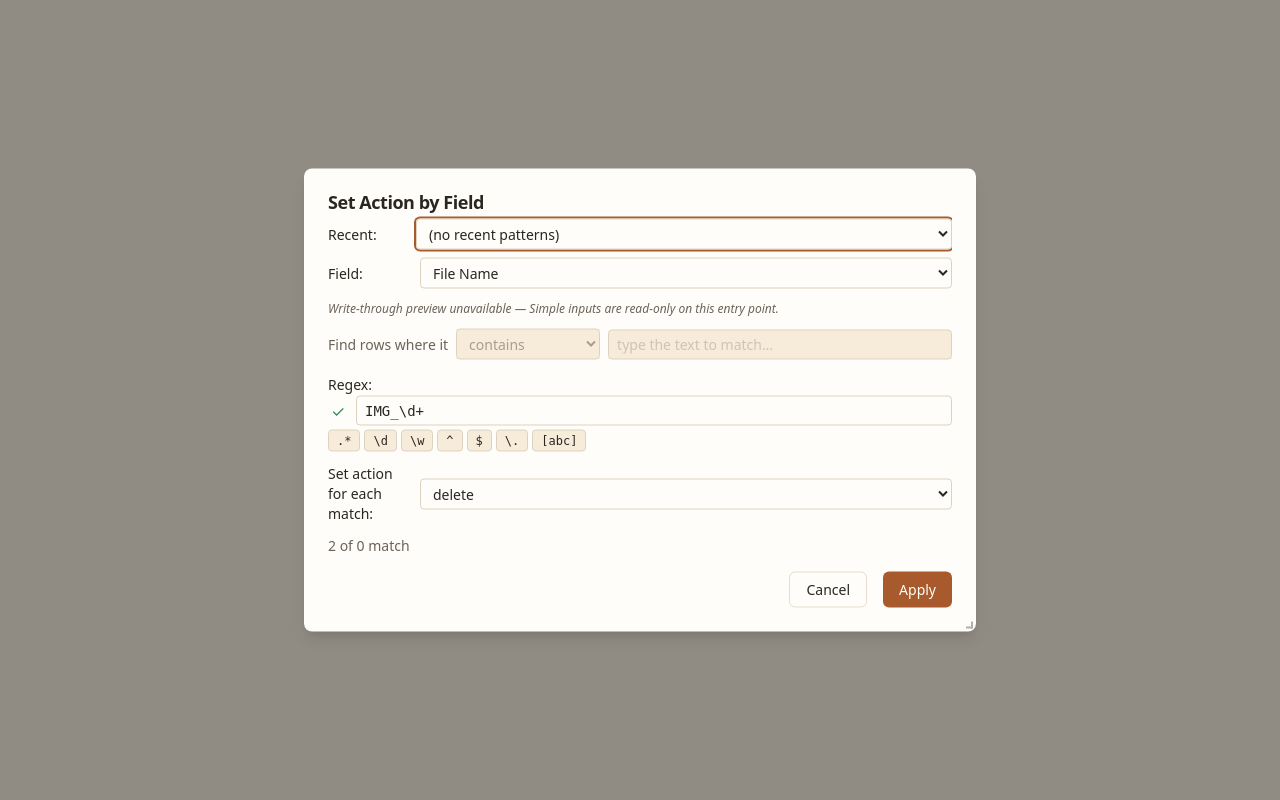
Test case: ActionDialog › delete-confirm falls back to the raw regex for a complex pattern
The width and height of the screenshot is (1280, 800).
Click the button with test id "action-btn-apply". click: (918, 590)
box: [883,572,952,608]
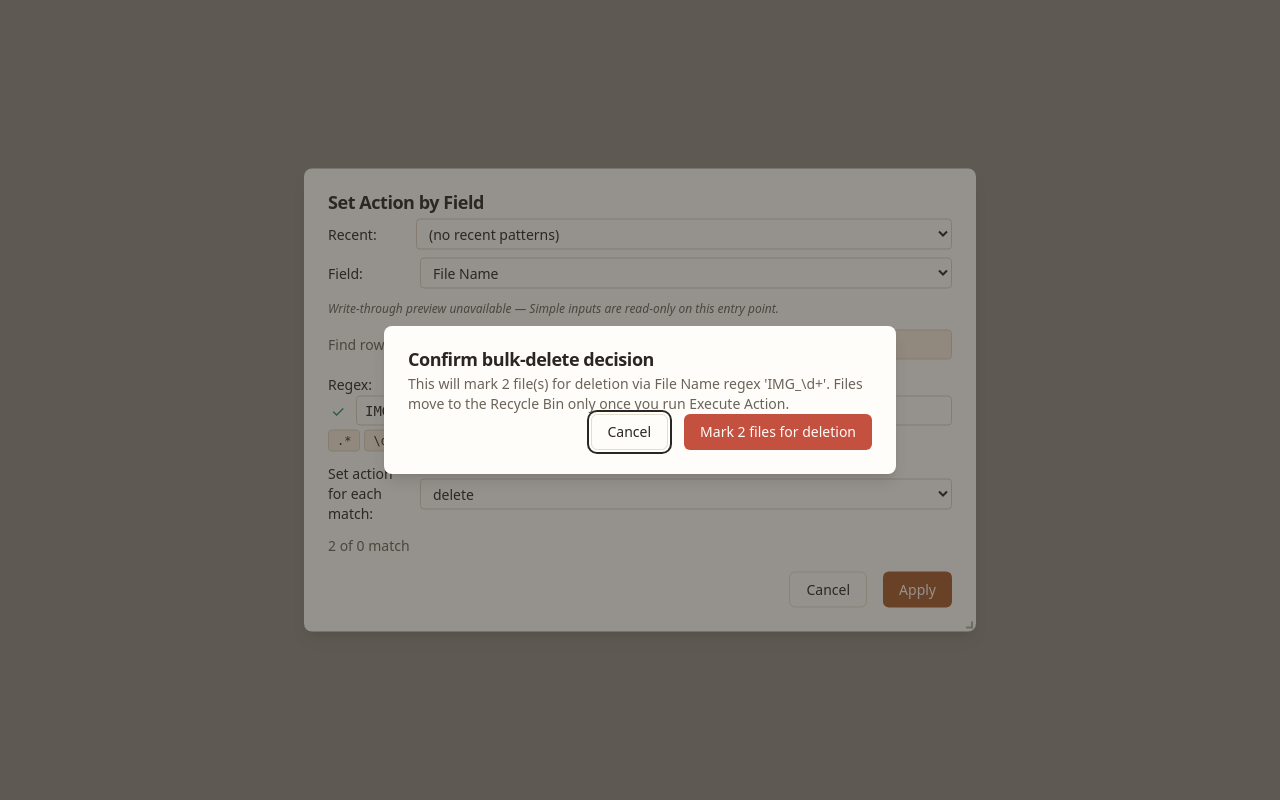
Expected: the text with test id "action-delete-confirm-summary" shows "File Name regex 'IMG_\\d+'", [408,374,863,413]
